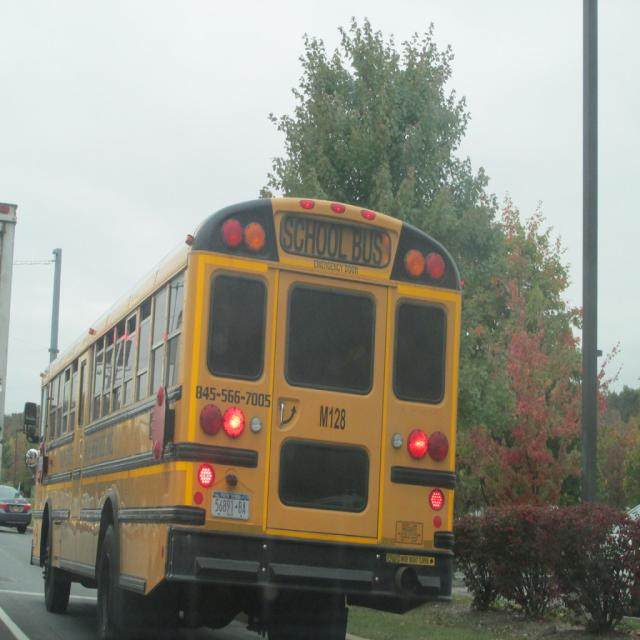car: (0, 485, 31, 531)
